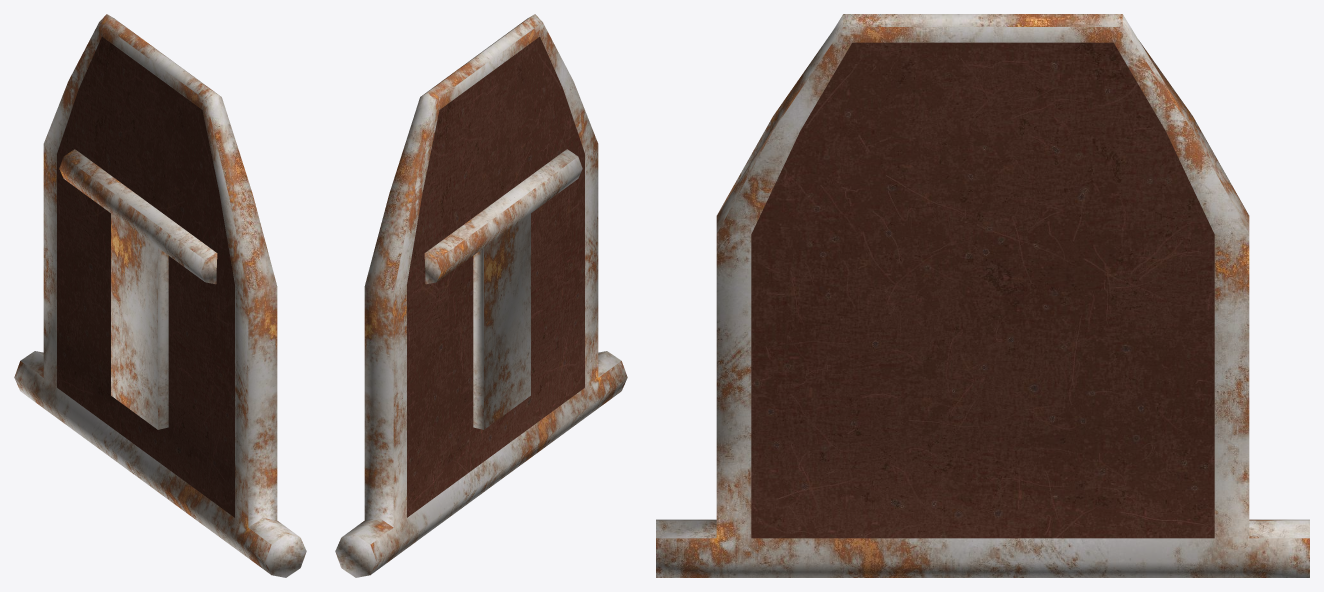
File: elevator_seat.glb
The picture shows the model from 3 angles, left to right: view 1: azimuth 30°, elevation 25°; view 2: azimuth 150°, elevation 25°; view 3: azimuth 270°, elevation 25°; orthographic projection. The views are drawn at different scales.
Visible parts, largest first — view 1: ElevatorSeat, ElevatorSeatHold; view 2: ElevatorSeat, ElevatorSeatHold; view 3: ElevatorSeat.
Boxes of the visible parts, x1,y1,x2,y2 form: ElevatorSeat: (14, 14, 306, 577); ElevatorSeatHold: (59, 149, 217, 429); ElevatorSeat: (335, 14, 627, 577); ElevatorSeatHold: (424, 149, 582, 429); ElevatorSeat: (656, 14, 1309, 577).
Size of the model in its own units: 0.0869 by 0.704 by 0.7409.
2 materials, 2 textured.
